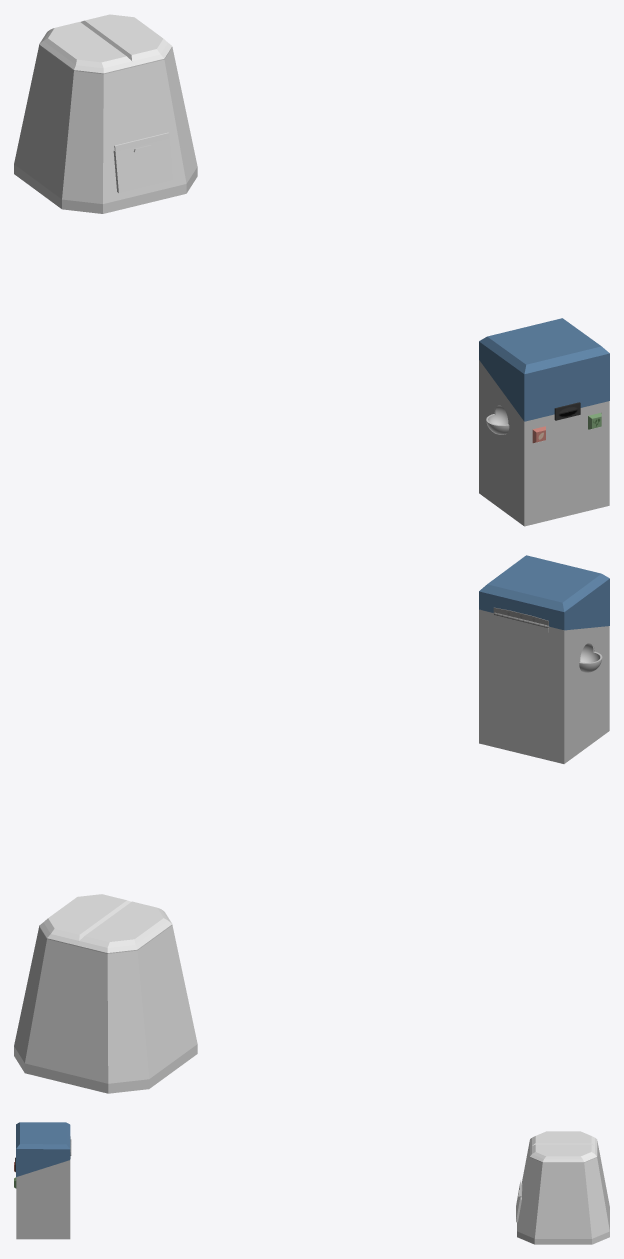
Rendered from GerminatorRedButton.fbx.
3 views of the same model, one above another, from view 1: azimuth 30°, elevation 25°; view 2: azimuth 150°, elevation 25°; view 3: azimuth 270°, elevation 25° (orthographic). The views are drawn at different scales.
Visible parts, largest first — view 1: ComposerBody, GerminatorBox, GerminatorLid, ComposterDrawer; view 2: ComposerBody, GerminatorBox, GerminatorLid; view 3: ComposerBody, GerminatorBox, GerminatorLid.
Boxes of the visible parts, left/top/right/bottom form: ComposerBody: left=14, top=14, right=197, bottom=213; GerminatorBox: left=479, top=360, right=609, bottom=526; GerminatorLid: left=479, top=318, right=609, bottom=421; ComposterDrawer: left=113, top=132, right=172, bottom=192; ComposerBody: left=14, top=894, right=197, bottom=1093; GerminatorBox: left=479, top=609, right=609, bottom=763; GerminatorLid: left=479, top=555, right=609, bottom=630; ComposerBody: left=517, top=1131, right=609, bottom=1244; GerminatorBox: left=16, top=1156, right=70, bottom=1239; GerminatorLid: left=15, top=1122, right=70, bottom=1176.
Bounding box in the file's own units: 2.78 × 3.1 × 17.83.
